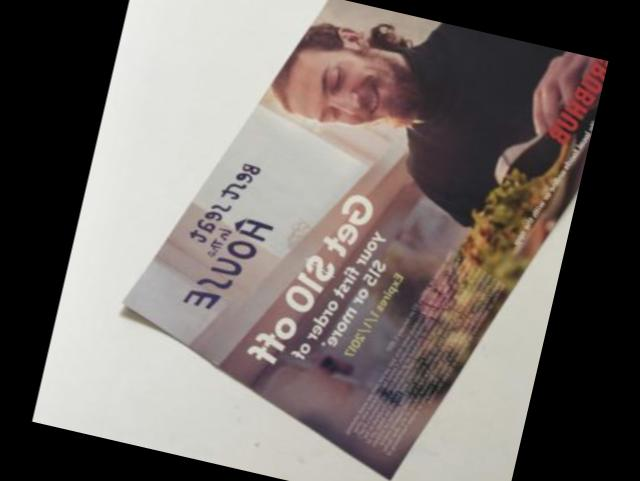cardboard paper: (124, 0, 608, 473)
